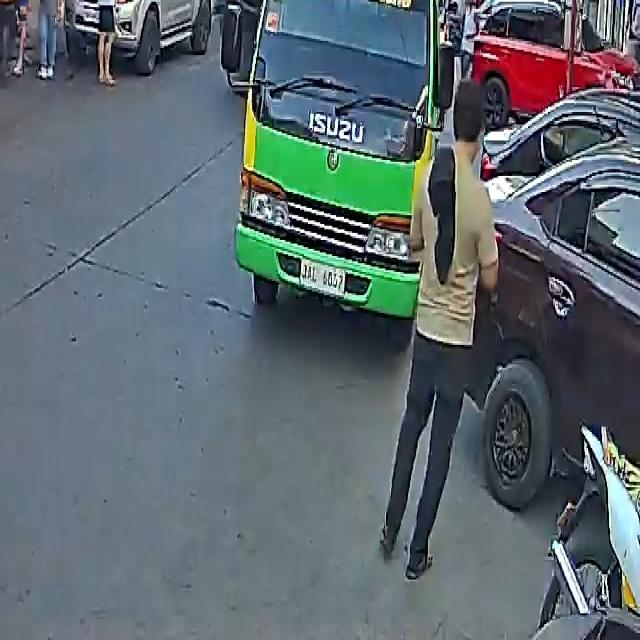car: (474, 68, 640, 542), (465, 0, 637, 132), (64, 0, 217, 64)
